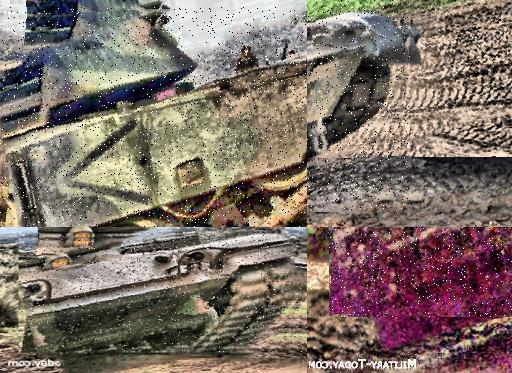tanks: (1, 8, 308, 228), (19, 235, 302, 353), (336, 228, 512, 318), (308, 13, 411, 166)
